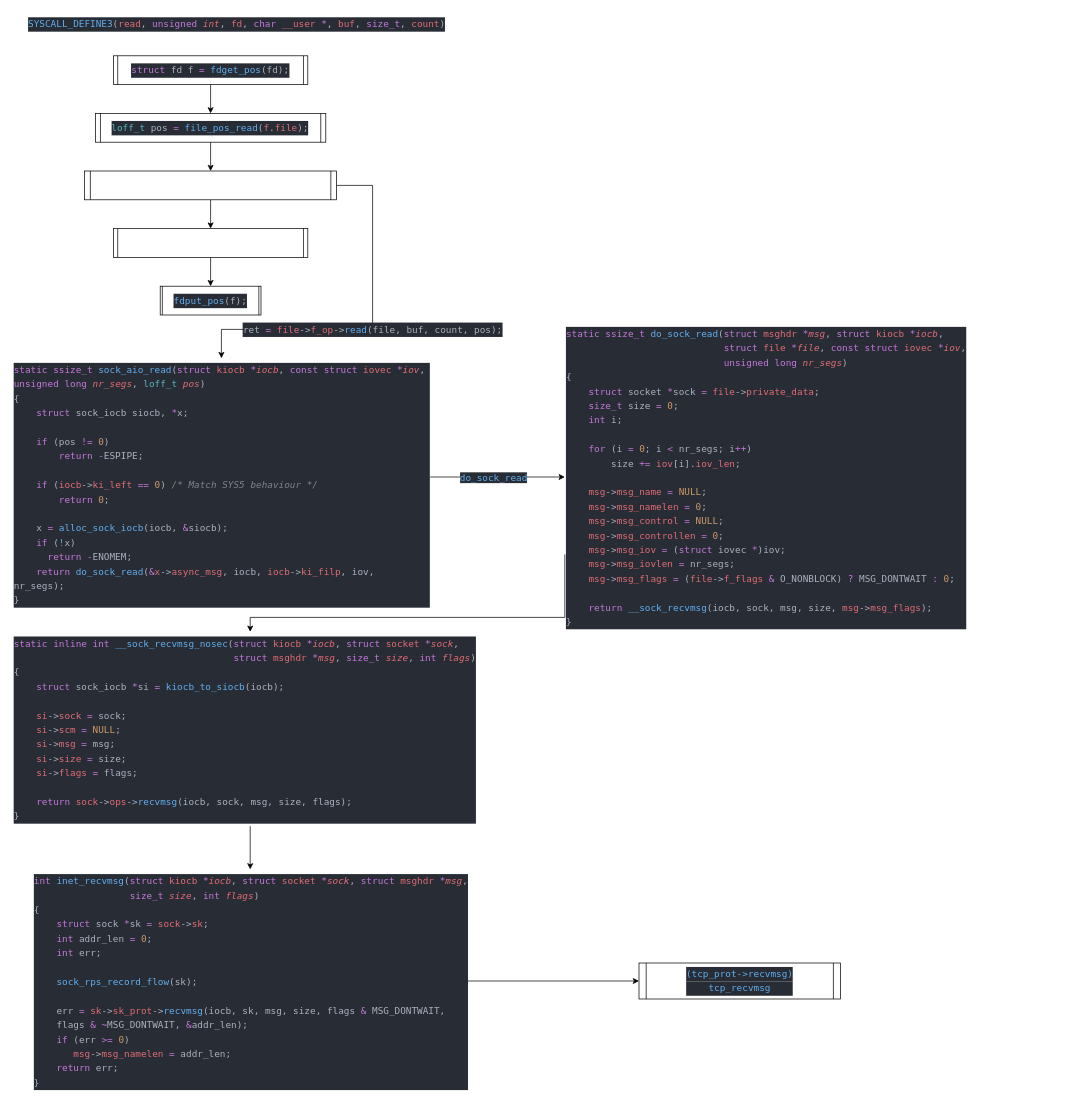
This 1076x1104 diagram has some shape labels left out. Each missing label, with the box of its shape:
file_pos_write ( f . file , pos);: (113, 228, 308, 257)
ret = vfs_read ( f . file , buf, count, & pos);: (84, 170, 337, 200)
